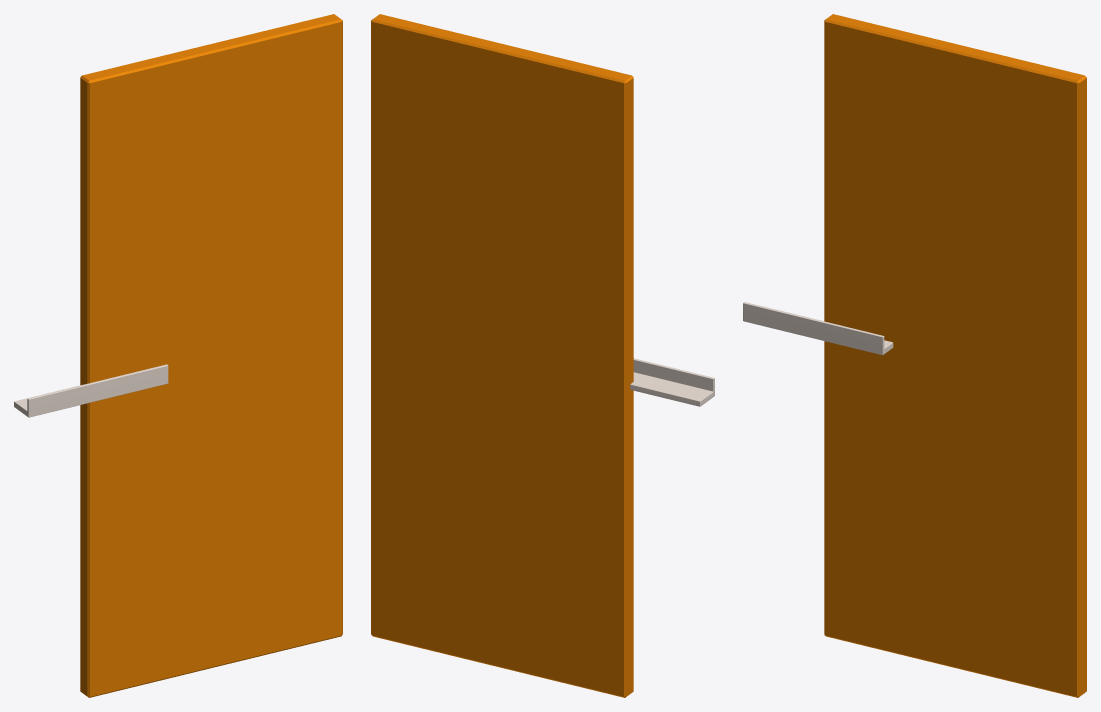
Rendered from Cabinet_f23af5fe.obj.
3 renders of one model, left to right at view 1: azimuth 30°, elevation 25°; view 2: azimuth 150°, elevation 25°; view 3: azimuth 330°, elevation 25°, orthographic.
Visible parts, largest first — view 1: Door_214d9ce5, handle_3_178mm_01_35750592; view 2: Door_214d9ce5, handle_3_178mm_01_35750592; view 3: Door_214d9ce5, handle_3_178mm_01_35750592.
Boxes of the visible parts, x1,y1,x2,y2 form: Door_214d9ce5: (80, 14, 342, 697); handle_3_178mm_01_35750592: (14, 364, 168, 417); Door_214d9ce5: (371, 14, 633, 697); handle_3_178mm_01_35750592: (630, 358, 714, 406); Door_214d9ce5: (824, 14, 1086, 697); handle_3_178mm_01_35750592: (743, 302, 893, 355).
Size of the model in its own units: 0.414 by 0.75 by 0.0426.
